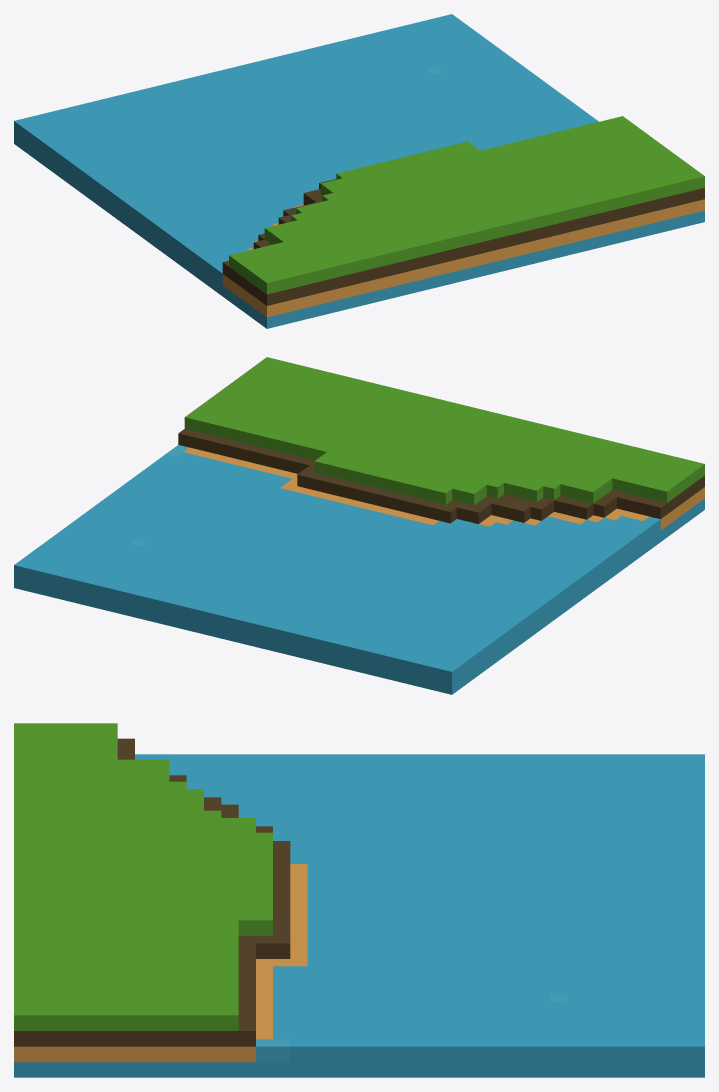
File: river3-7-River.obj
The picture shows the model from 3 angles, top to bottom: view 1: azimuth 30°, elevation 25°; view 2: azimuth 150°, elevation 25°; view 3: azimuth 270°, elevation 25°; orthographic projection. The views are drawn at different scales.
Visible parts, largest first — view 1: River; view 2: River; view 3: River.
Boxes of the visible parts, x1,y1,x2,y2 form: River: (14, 14, 704, 328); River: (14, 357, 704, 694); River: (14, 723, 704, 1077).
Bounding box in the file's own units: 4 × 0.4 × 4.
